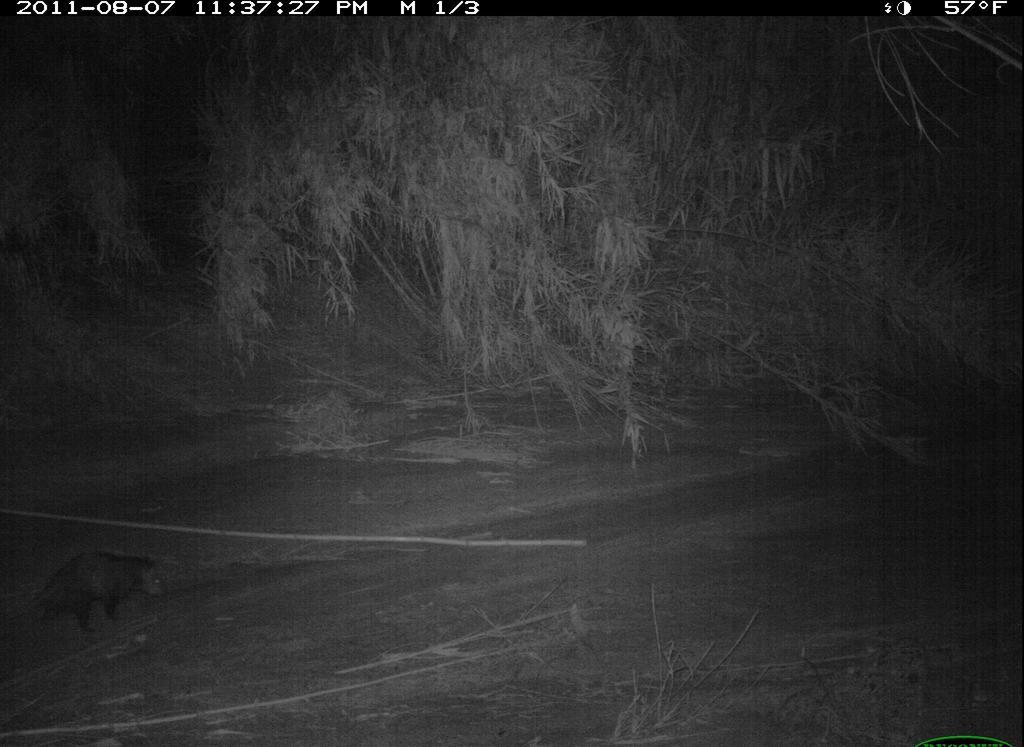opossum: (21, 532, 219, 648)
